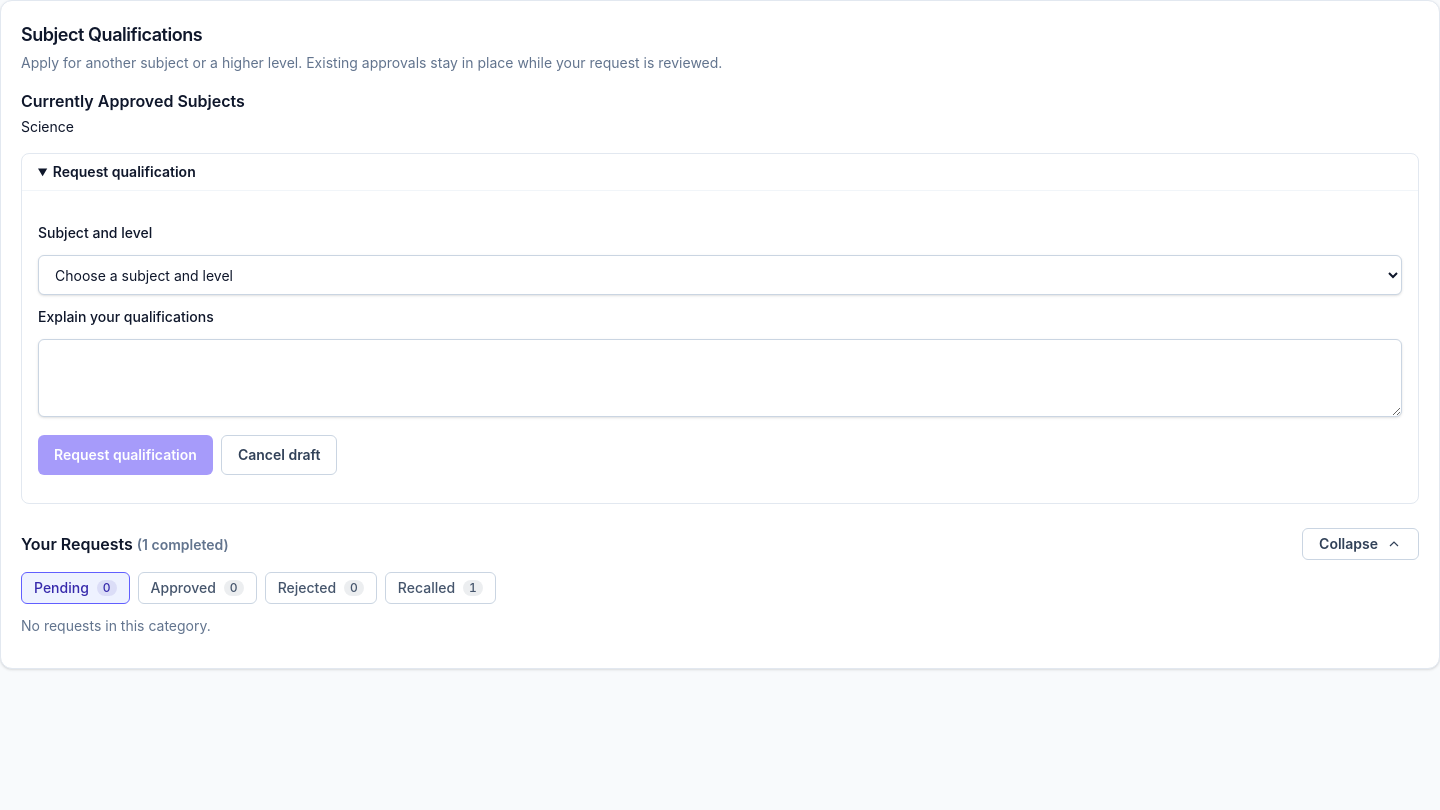
keeps RECALLED requests read-only
Click the button "Recalled 1": (440, 588) [385,572,496,604]
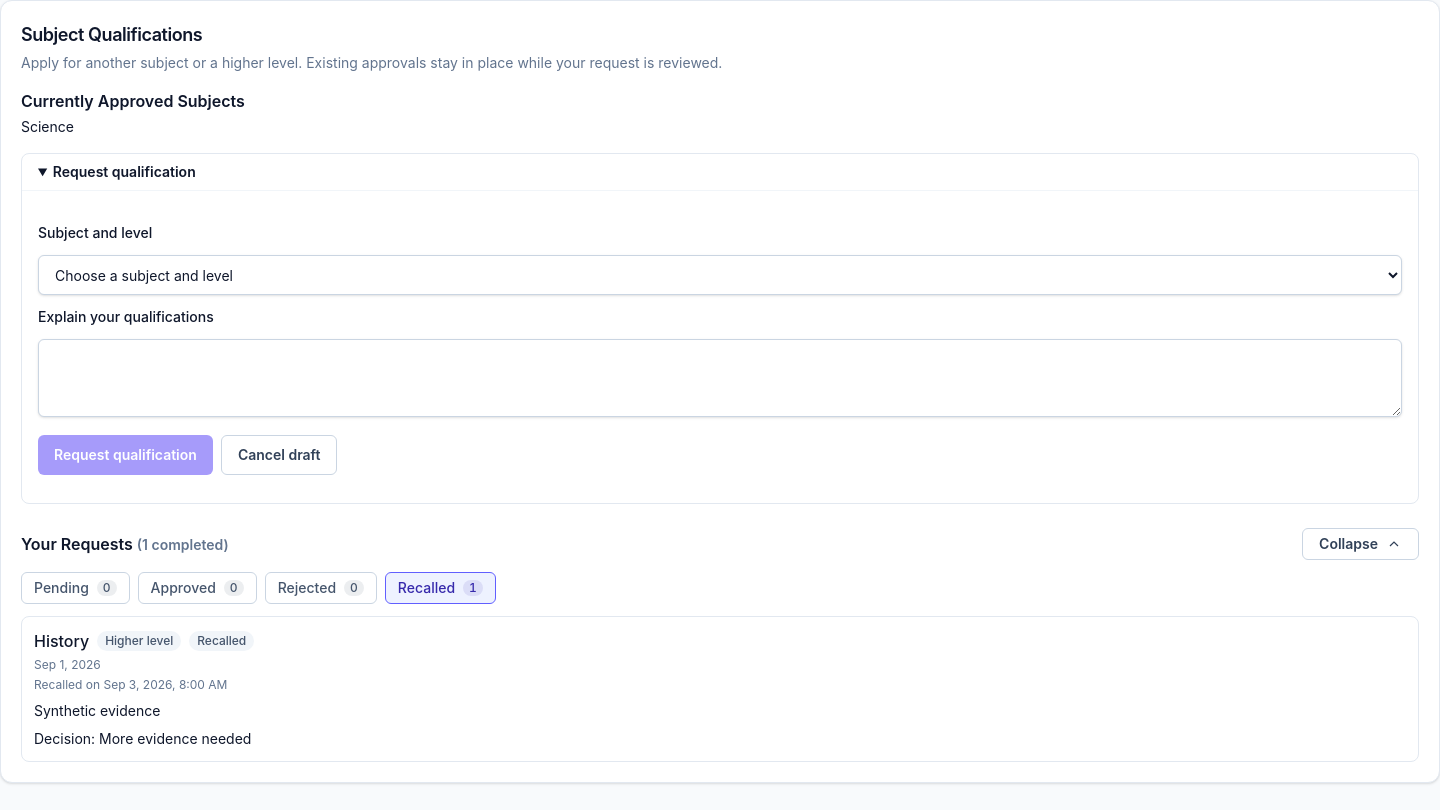
Expected: the text "Recalled on Sep 3, 2026, 8:00 AM" is shown, [34,677,227,692]
